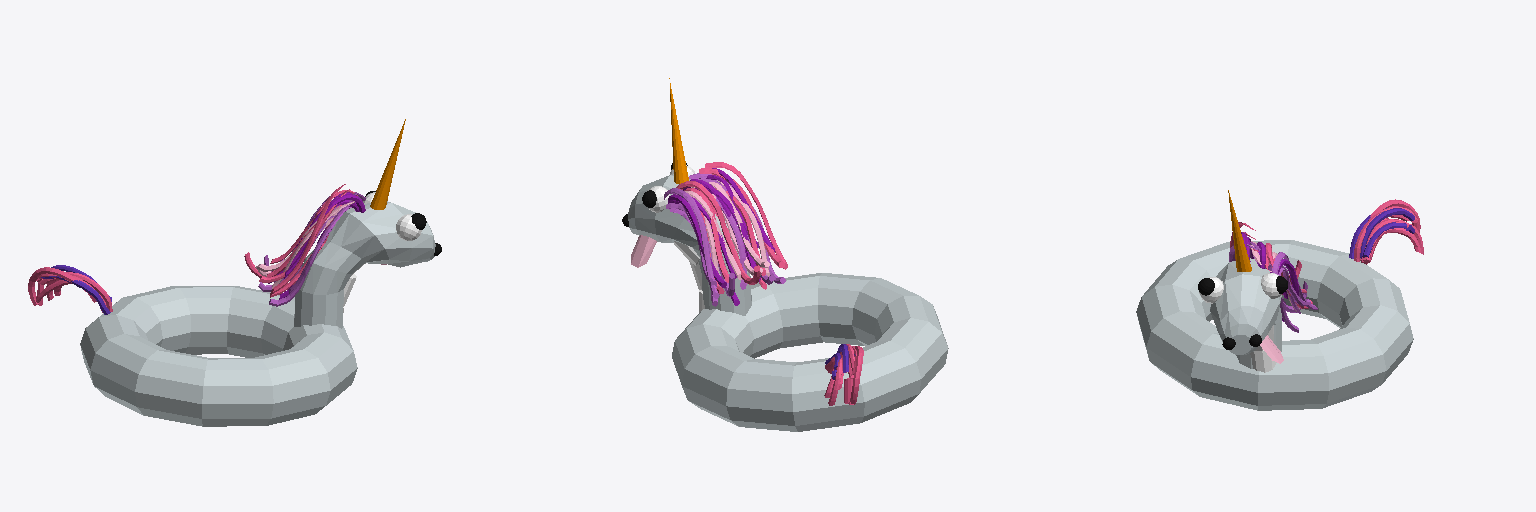
3 views of the same model, side by side, from view 1: azimuth 30°, elevation 25°; view 2: azimuth 150°, elevation 25°; view 3: azimuth 270°, elevation 25° (orthographic).
Visible parts, largest first — view 1: group[number redacted], group[number redacted], group[number redacted], group[number redacted], group[number redacted]; view 2: group[number redacted], group[number redacted], group[number redacted], group[number redacted], group[number redacted], group[number redacted], group[number redacted]; view 3: group[number redacted], group[number redacted], group[number redacted].
Part boxes in pixels (left/top/right/bottom): group[number redacted]: left=80, top=286, right=357, bottom=426; group[number redacted]: left=294, top=201, right=435, bottom=328; group[number redacted]: left=370, top=119, right=405, bottom=209; group[number redacted]: left=269, top=192, right=356, bottom=306; group[number redacted]: left=271, top=184, right=345, bottom=293; group[number redacted]: left=672, top=273, right=948, bottom=431; group[number redacted]: left=628, top=174, right=751, bottom=315; group[number redacted]: left=676, top=181, right=760, bottom=284; group[number redacted]: left=669, top=78, right=688, bottom=183; group[number redacted]: left=664, top=188, right=719, bottom=298; group[number redacted]: left=705, top=162, right=787, bottom=269; group[number redacted]: left=631, top=235, right=656, bottom=267; group[number redacted]: left=1136, top=240, right=1413, bottom=410; group[number redacted]: left=1210, top=258, right=1281, bottom=368; group[number redacted]: left=1228, top=190, right=1251, bottom=271.
Bounding box in the file's own units: 1.62 × 1.25 × 1.26.